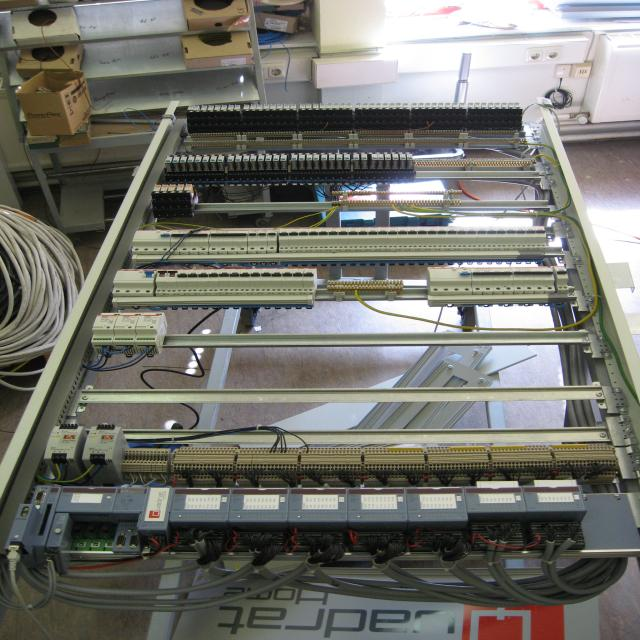Dimmer: (91, 313, 122, 355), (134, 312, 164, 354), (113, 313, 143, 354)
FI: (112, 269, 159, 297), (428, 267, 473, 295), (132, 230, 174, 255)
Leitungsschutzschalter: (540, 267, 556, 293), (531, 267, 546, 294), (554, 266, 569, 293), (197, 268, 211, 296), (470, 267, 484, 295), (490, 267, 504, 295), (155, 269, 169, 296), (207, 268, 221, 295), (218, 268, 232, 295), (228, 268, 242, 295), (480, 268, 494, 295), (500, 267, 514, 294), (511, 267, 525, 294), (521, 267, 535, 294), (249, 267, 262, 296), (166, 269, 179, 296), (177, 269, 190, 296), (239, 268, 252, 295), (504, 226, 518, 251), (187, 269, 200, 295), (260, 269, 273, 295), (281, 269, 294, 295), (170, 230, 184, 254), (189, 230, 202, 255), (271, 268, 283, 295), (179, 230, 192, 254), (524, 227, 537, 251), (534, 227, 547, 251), (292, 269, 304, 295), (303, 269, 315, 295), (199, 229, 211, 254), (247, 229, 259, 254), (208, 230, 220, 254), (218, 230, 230, 254), (228, 230, 240, 254), (237, 230, 249, 254), (495, 227, 507, 251), (515, 227, 527, 251), (407, 226, 418, 252), (257, 229, 268, 254), (417, 226, 428, 251), (477, 226, 488, 251), (267, 229, 278, 253), (368, 227, 379, 251), (378, 228, 389, 252), (486, 227, 497, 251), (299, 228, 309, 253), (338, 227, 348, 252), (348, 227, 358, 252), (359, 227, 369, 252), (398, 227, 408, 252), (437, 226, 447, 251), (447, 226, 457, 251), (289, 228, 299, 252), (309, 228, 319, 252), (318, 228, 328, 252), (388, 228, 398, 252), (457, 227, 467, 250), (467, 227, 477, 250), (329, 227, 338, 252), (428, 226, 437, 251), (280, 228, 288, 253)
Relais: (165, 155, 174, 163), (172, 155, 181, 163), (179, 155, 188, 163), (187, 155, 196, 163), (200, 105, 208, 113), (210, 154, 218, 162), (217, 154, 225, 162), (227, 154, 235, 162), (235, 154, 243, 162), (273, 153, 281, 161), (280, 153, 288, 161), (384, 152, 392, 160), (202, 155, 211, 162), (160, 184, 169, 191), (186, 105, 194, 112), (192, 105, 200, 112), (214, 104, 221, 112), (242, 104, 250, 111), (459, 102, 466, 110), (195, 155, 203, 162), (243, 154, 250, 162), (250, 154, 257, 162), (265, 154, 273, 161), (361, 152, 368, 160), (371, 152, 378, 160), (392, 152, 399, 160), (399, 152, 406, 160), (406, 152, 413, 160), (153, 184, 161, 191), (168, 184, 176, 191), (207, 105, 214, 112), (220, 105, 227, 112), (233, 104, 240, 111), (249, 104, 256, 111), (256, 104, 263, 111), (263, 104, 270, 111), (283, 103, 290, 110), (319, 103, 326, 110), (438, 102, 445, 109), (481, 102, 488, 109), (258, 154, 265, 161), (291, 153, 298, 160), (299, 153, 306, 160), (306, 153, 313, 160), (313, 153, 320, 160), (321, 153, 328, 160), (344, 153, 351, 160), (270, 103, 276, 111), (356, 102, 362, 110), (382, 102, 388, 110), (396, 102, 402, 110), (403, 102, 409, 110), (412, 102, 418, 110), (425, 102, 431, 110), (468, 102, 474, 110), (502, 102, 508, 110), (176, 184, 184, 190), (184, 184, 192, 190), (228, 104, 234, 111), (277, 104, 283, 111), (290, 103, 296, 110), (340, 103, 346, 110), (346, 103, 352, 110), (445, 102, 451, 109), (489, 102, 495, 109), (508, 102, 514, 109), (300, 103, 305, 111), (363, 102, 368, 110), (370, 102, 375, 110), (376, 102, 381, 110), (432, 102, 437, 110), (378, 152, 383, 160), (313, 104, 319, 110), (389, 103, 395, 109), (306, 103, 311, 110), (327, 103, 332, 110), (334, 103, 339, 110), (419, 102, 424, 109), (453, 102, 458, 109), (329, 153, 334, 160), (337, 153, 342, 160), (354, 153, 359, 160), (475, 102, 479, 108), (495, 102, 499, 108), (515, 102, 519, 108)
SPS-System -Steuerungskomponente-: (113, 486, 173, 528), (173, 488, 232, 528), (405, 487, 469, 521), (346, 487, 407, 521), (229, 488, 287, 522), (289, 488, 347, 521), (464, 484, 526, 512), (523, 484, 584, 512), (53, 487, 118, 511)
Schaltkasten: (0, 97, 640, 611)
